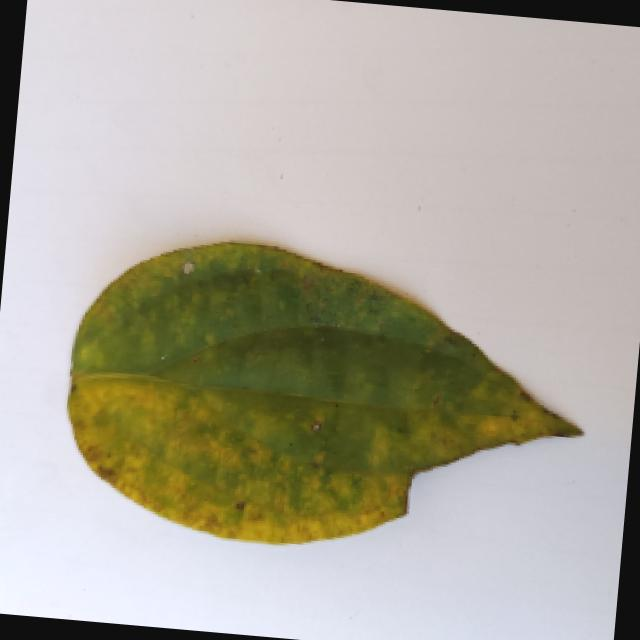slow-decline: (54, 226, 595, 565)
